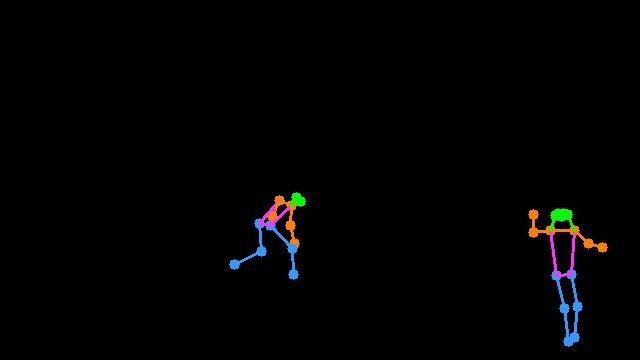normal: (523, 191, 613, 355), (222, 178, 317, 292)
